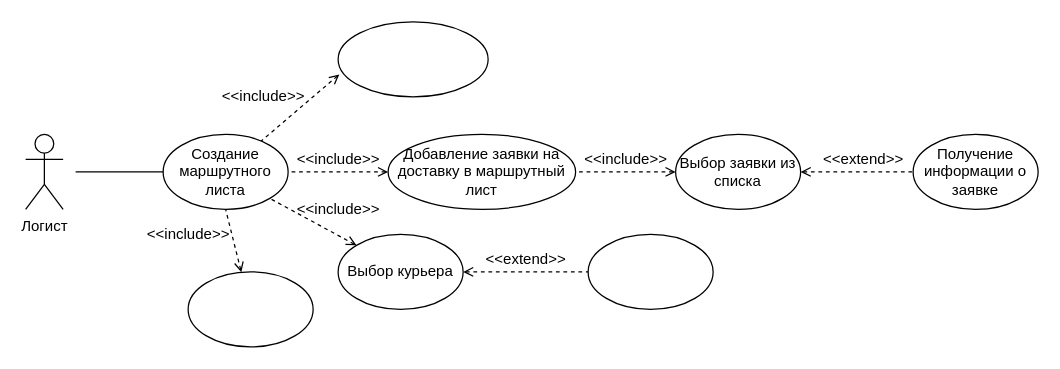
This 1060x369 diagram has some shape labels left out. The shapes that lost their labels are listed below. From the top down, each one's box as (x1, y1, x2, y2) in pixels, then its label:
(337, 21, 488, 97): Удаление заявки из маршрутного листа
(587, 233, 713, 309): Получение информации о курьере
(187, 271, 313, 347): Изменение статуса маршрутного листа
